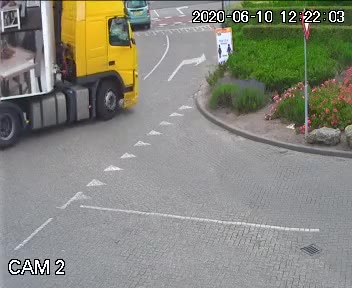car: (0, 4, 154, 130), (125, 0, 161, 28)
